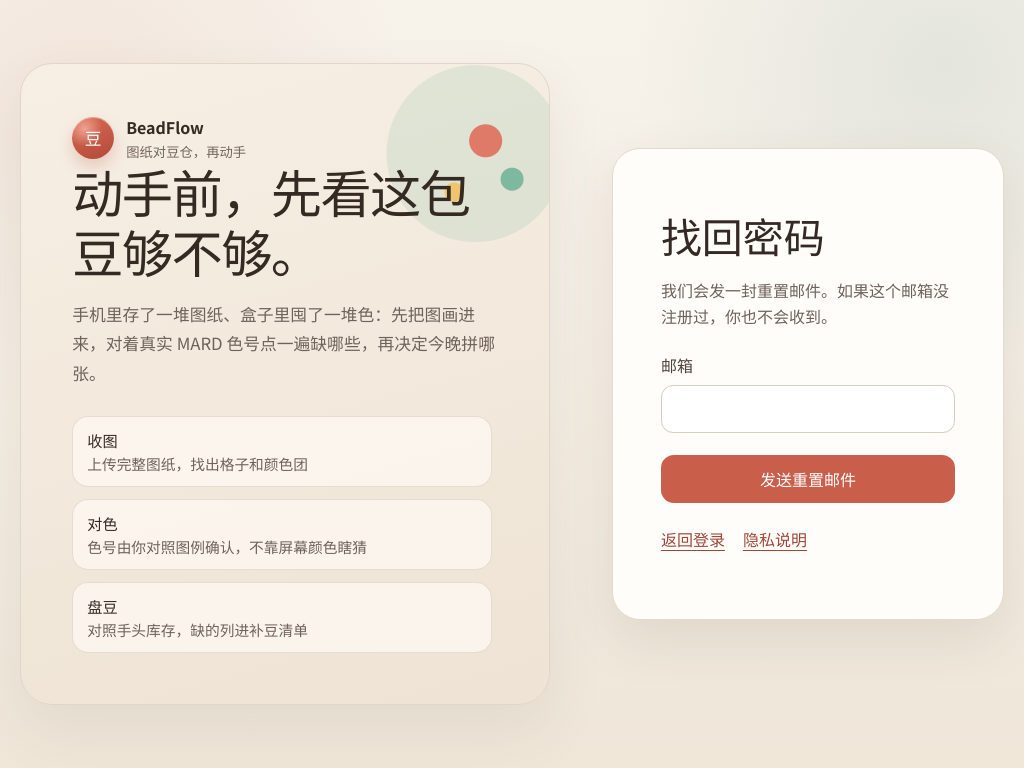
Scenario: authenticated application shell › explains the provider email cooldown without exposing provider details
This screenshot has width=1024, height=768.
Check: the heading "找回密码" is shown, box [661,205,825,265]
In the field labelled "邮箱": (808, 409) [661,385,955,433], type "maker@example.com"
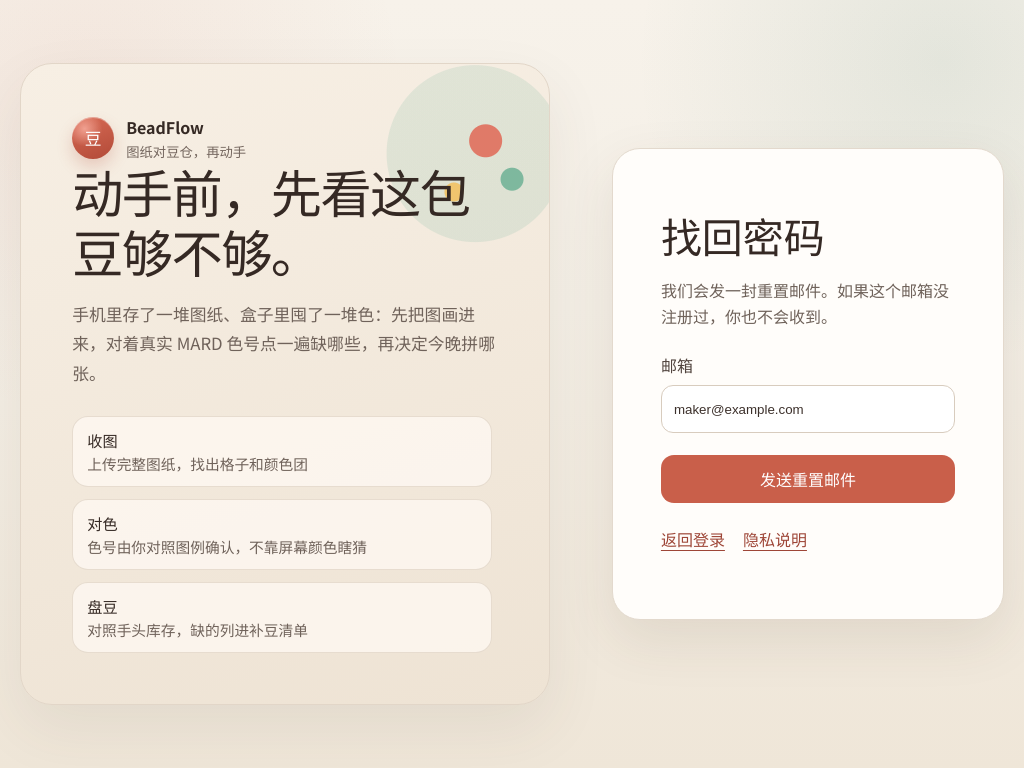
Click the button "发送重置邮件": (808, 479) [661,455,955,503]
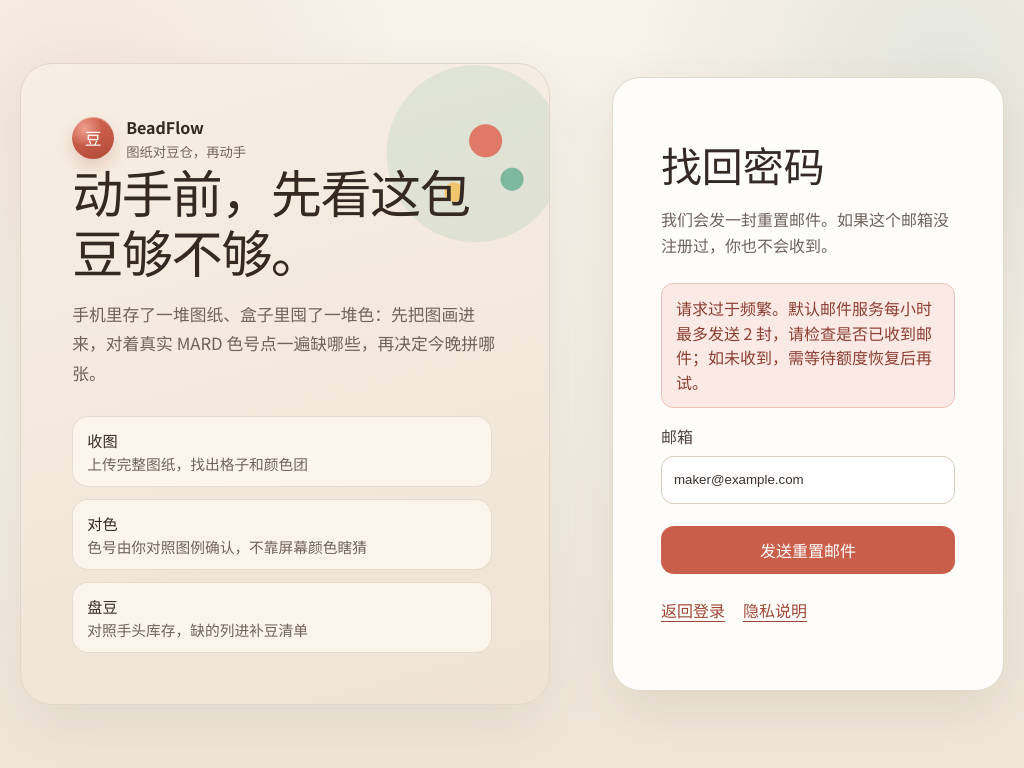
Check: the message shows "默认邮件服务每小时最多发送 2 封", box [676,296,932,394]
